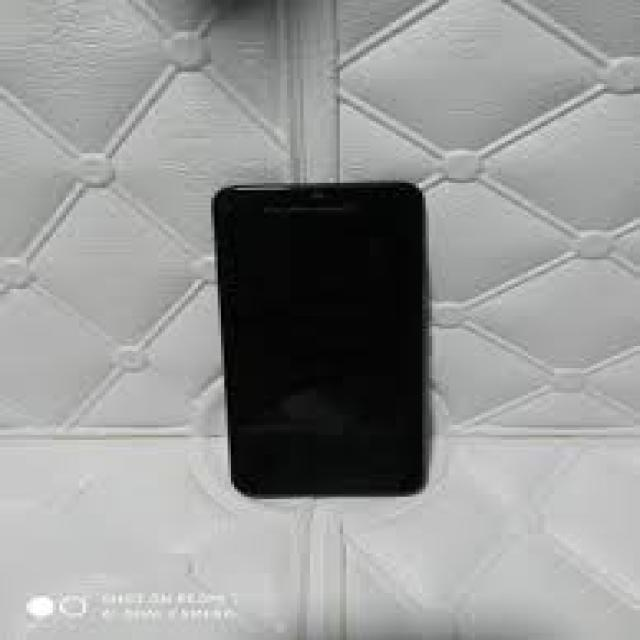mobile phone: (208, 178, 429, 499)
